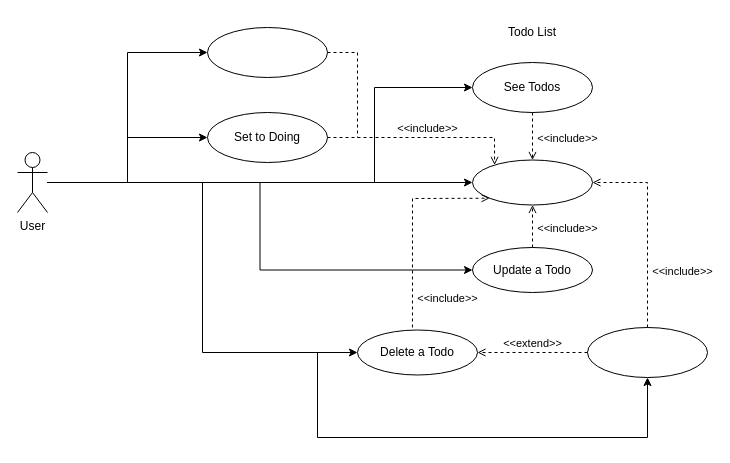
Image size: 730x463. Some labels were removed from this diagram. The box of each missing label's shape, as (x1, y1, x2, y2) in pixels:
Create a Todo: (472, 159, 592, 205)
Set to Todo: (206, 26, 328, 78)
Valid a Todo: (586, 326, 708, 378)
